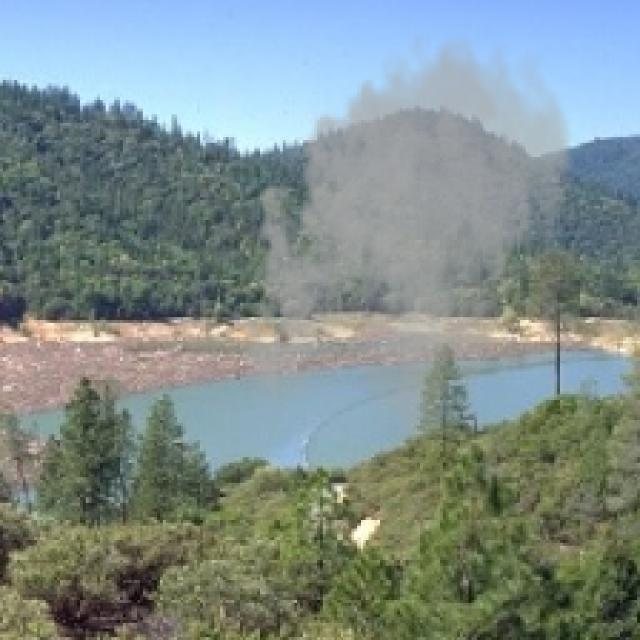Smoke: (235, 23, 580, 440)
